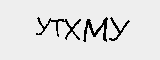М: (81, 17, 108, 41)
Т: (50, 16, 65, 38)
У: (109, 16, 129, 43), (34, 15, 51, 39)
Х: (63, 17, 80, 41)
